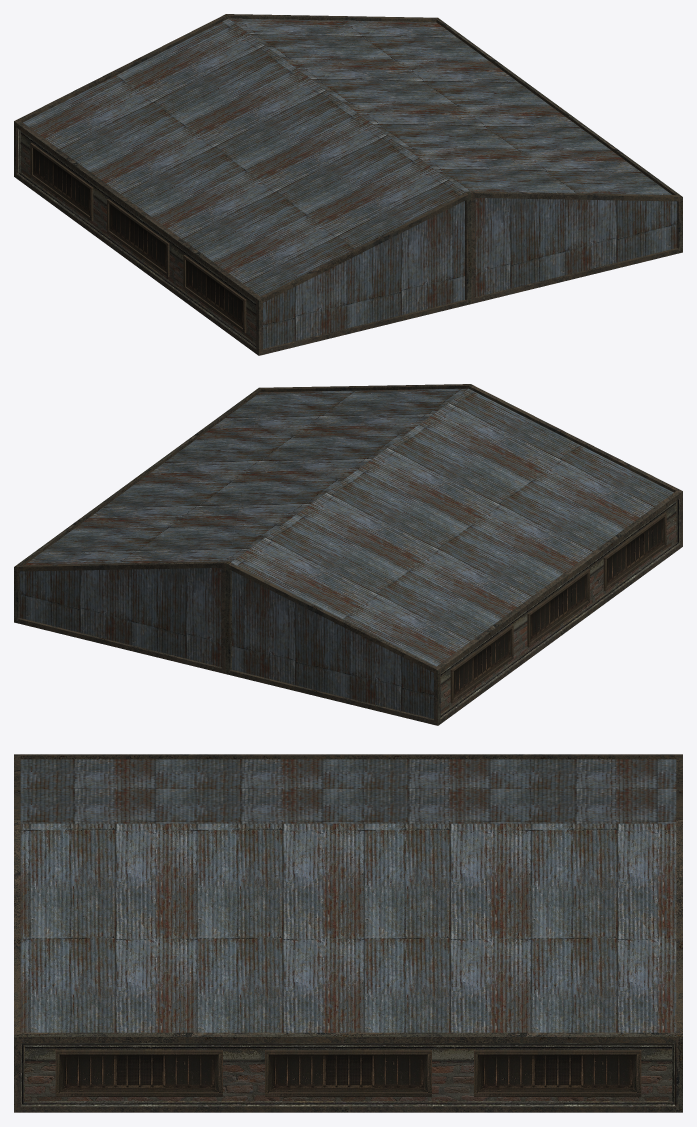
File: roof_mh_4_a_2.obj
The picture shows the model from 3 angles, top to bottom: view 1: azimuth 30°, elevation 25°; view 2: azimuth 150°, elevation 25°; view 3: azimuth 270°, elevation 25°; orthographic projection. The views are drawn at different scales.
Visible parts, largest first — view 1: roof_mh_4_a_2; view 2: roof_mh_4_a_2; view 3: roof_mh_4_a_2.
Part boxes in pixels (bbox=[...]): roof_mh_4_a_2: bbox=[14, 14, 682, 355]; roof_mh_4_a_2: bbox=[14, 384, 682, 725]; roof_mh_4_a_2: bbox=[14, 754, 682, 1112].
Size of the model in its own units: 8 by 2 by 8.
